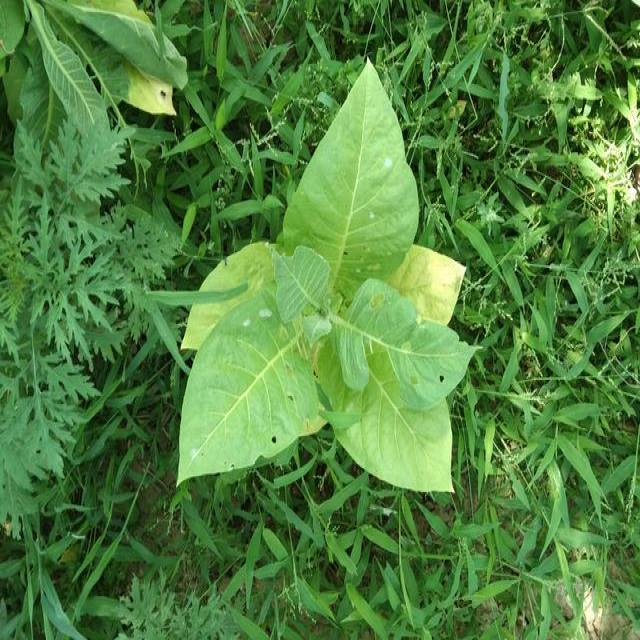crop: (181, 58, 474, 505)
